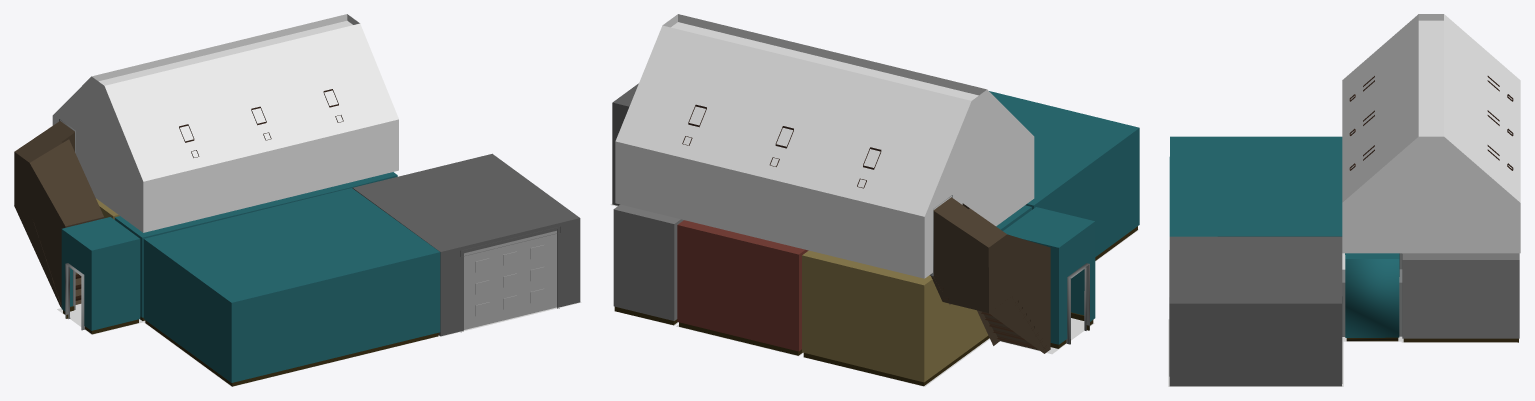
The model's file is Maison8.fbx.
3 views of the same model, side by side, from view 1: azimuth 30°, elevation 25°; view 2: azimuth 150°, elevation 25°; view 3: azimuth 270°, elevation 25° (orthographic). The views are drawn at different scales.
Parts seen in each view (by area): view 1: Plane.006, Plane.004, Cadre_porte_Cube.003, Plane; view 2: Plane.004, Plane.006, Cadre_porte_Cube.003, Plane; view 3: Plane.004, Plane.006, Cadre_porte_Cube.003, Cube.004, Plane.003.
Boxes of the visible parts, <box> form: Plane.006: <box>14,119,556,386</box>; Plane.004: <box>52,14,398,232</box>; Cadre_porte_Cube.003: <box>352,153,580,336</box>; Plane: <box>57,304,438,386</box>; Plane.004: <box>615,14,1034,278</box>; Plane.006: <box>613,91,1139,386</box>; Cadre_porte_Cube.003: <box>612,83,638,205</box>; Plane: <box>676,229,1138,356</box>; Plane.004: <box>1342,14,1520,253</box>; Plane.006: <box>1169,136,1519,342</box>; Cadre_porte_Cube.003: <box>1169,236,1342,386</box>; Cube.004: <box>1349,76,1513,170</box>; Plane.003: <box>1168,319,1343,386</box>.
Bounding box in the file's own units: 2747 × 1364 × 2109.
